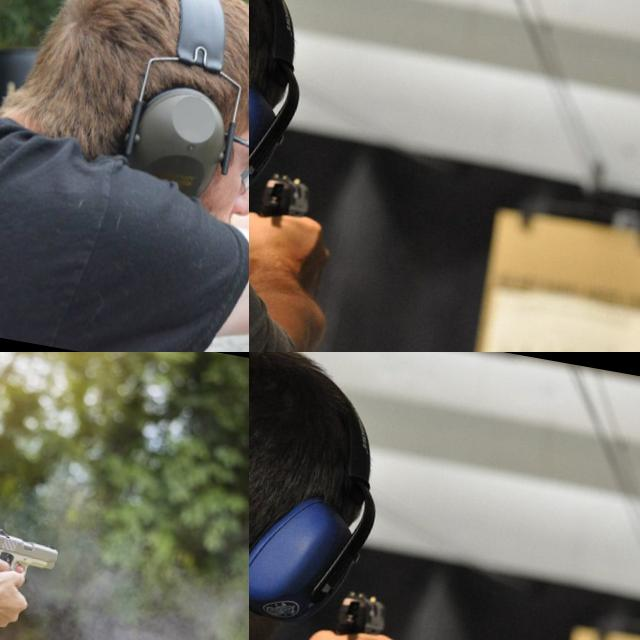handgun: (249, 161, 324, 245), (321, 579, 400, 640), (0, 521, 65, 594)
